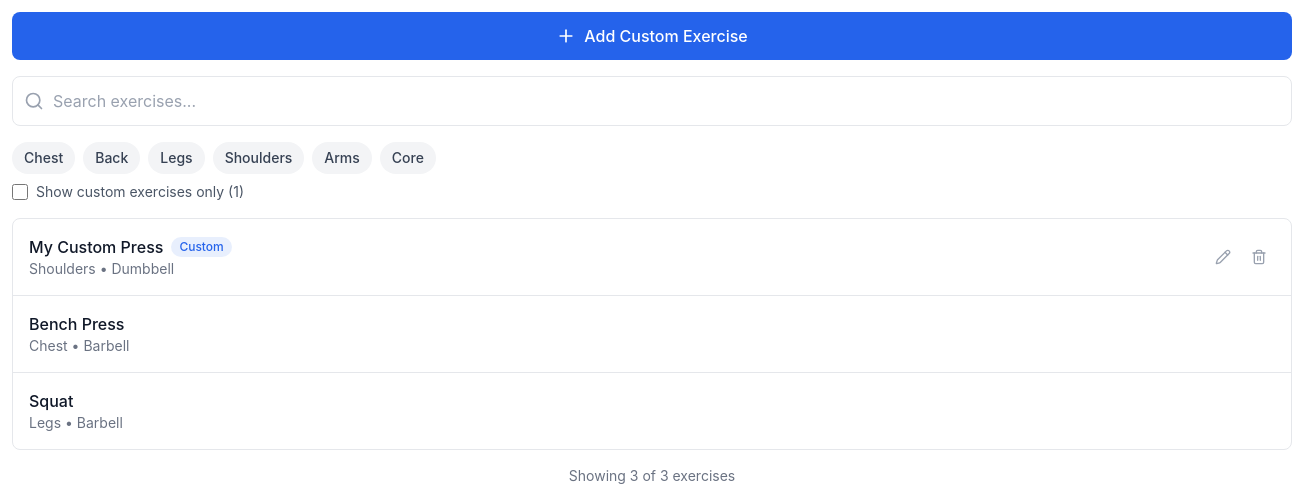
Test: ExerciseList › Search Functionality › should clear search when clear button is clicked
This screenshot has width=1304, height=501.
Expected: the text "Bench Press" is shown, [29, 312, 124, 336]
In the field with placeholder "Search exercises...": (652, 101) [12, 76, 1292, 126], type "press"
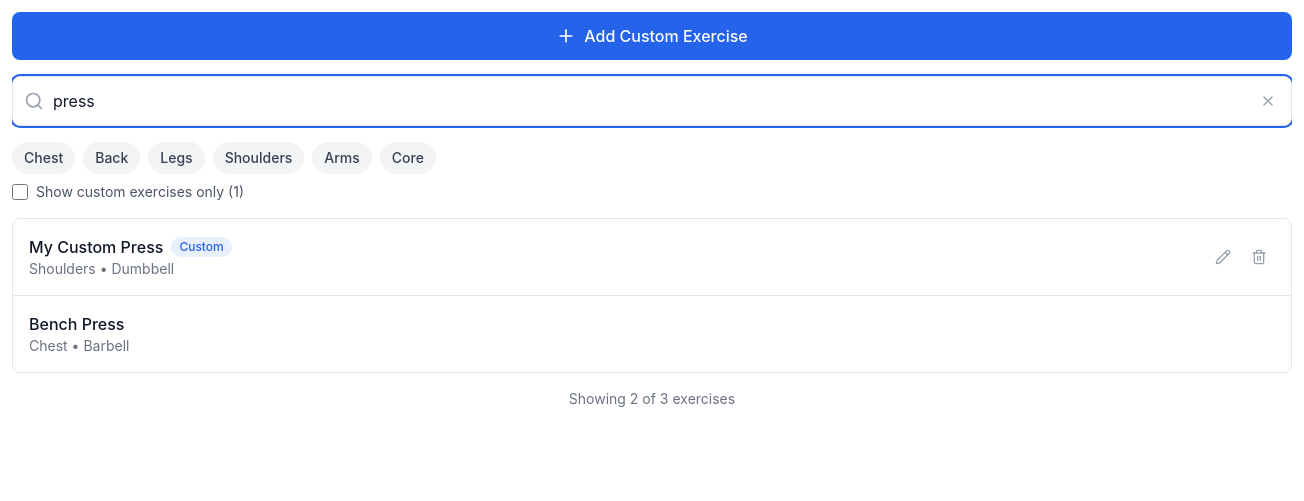
Now the text "Squat" is gone
Click the button named "Clear search": (1268, 101) [1256, 89, 1280, 113]
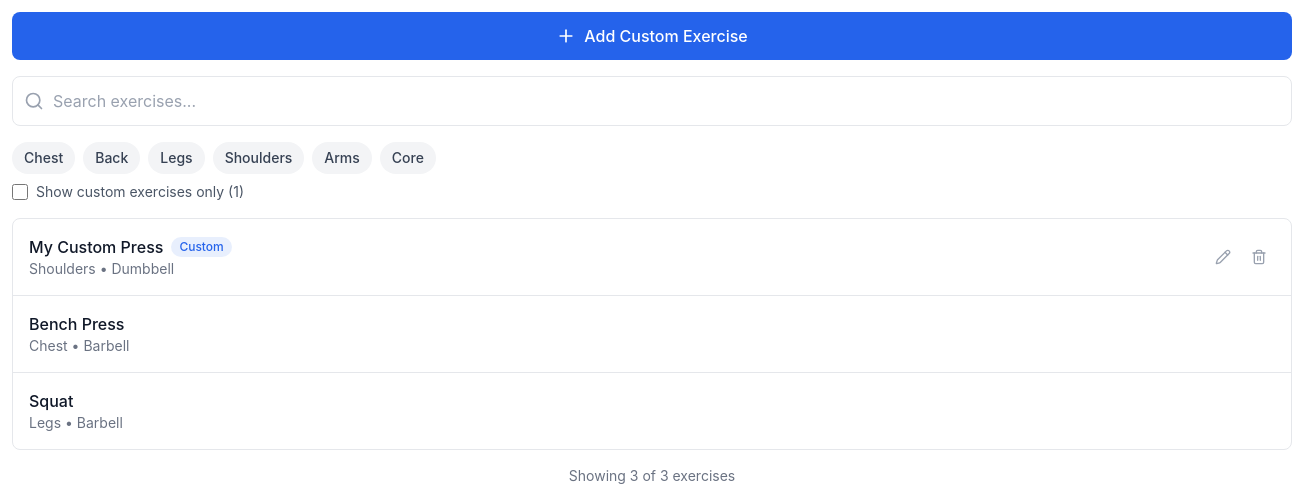
Now the text "Squat" is shown, box [29, 389, 73, 413]
Now the field with placeholder "Search exercises..." is empty, box [12, 76, 1292, 126]
